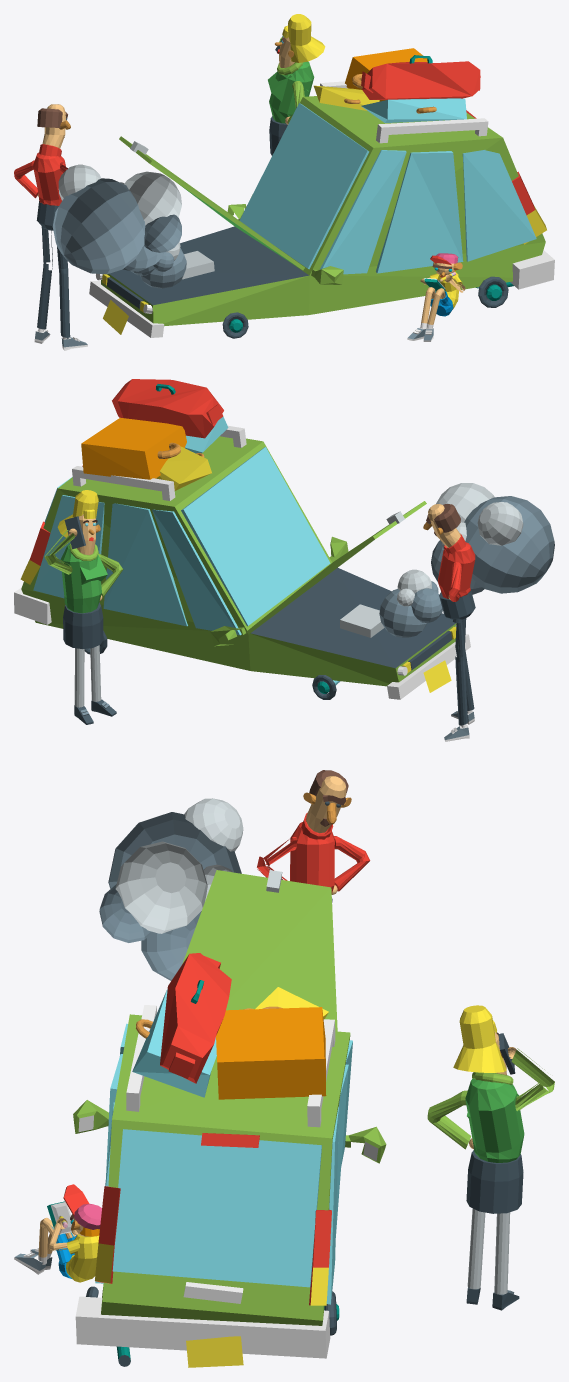
File: scene_L6KBgZjzvc.glb
3 renders of one model, top to bottom at view 1: azimuth 30°, elevation 25°; view 2: azimuth 150°, elevation 25°; view 3: azimuth 270°, elevation 25°, orthographic. The views are drawn at different scales.
Parts seen in each view (by area): view 1: Node; view 2: Node; view 3: Node.
Boxes of the visible parts, x1=… form: Node: x1=14, y1=14, x2=554, y2=350; Node: x1=14, y1=379, x2=554, y2=741; Node: x1=14, y1=770, x2=554, y2=1367.
Size of the model in its own units: 6.33 by 3.15 by 4.48.
